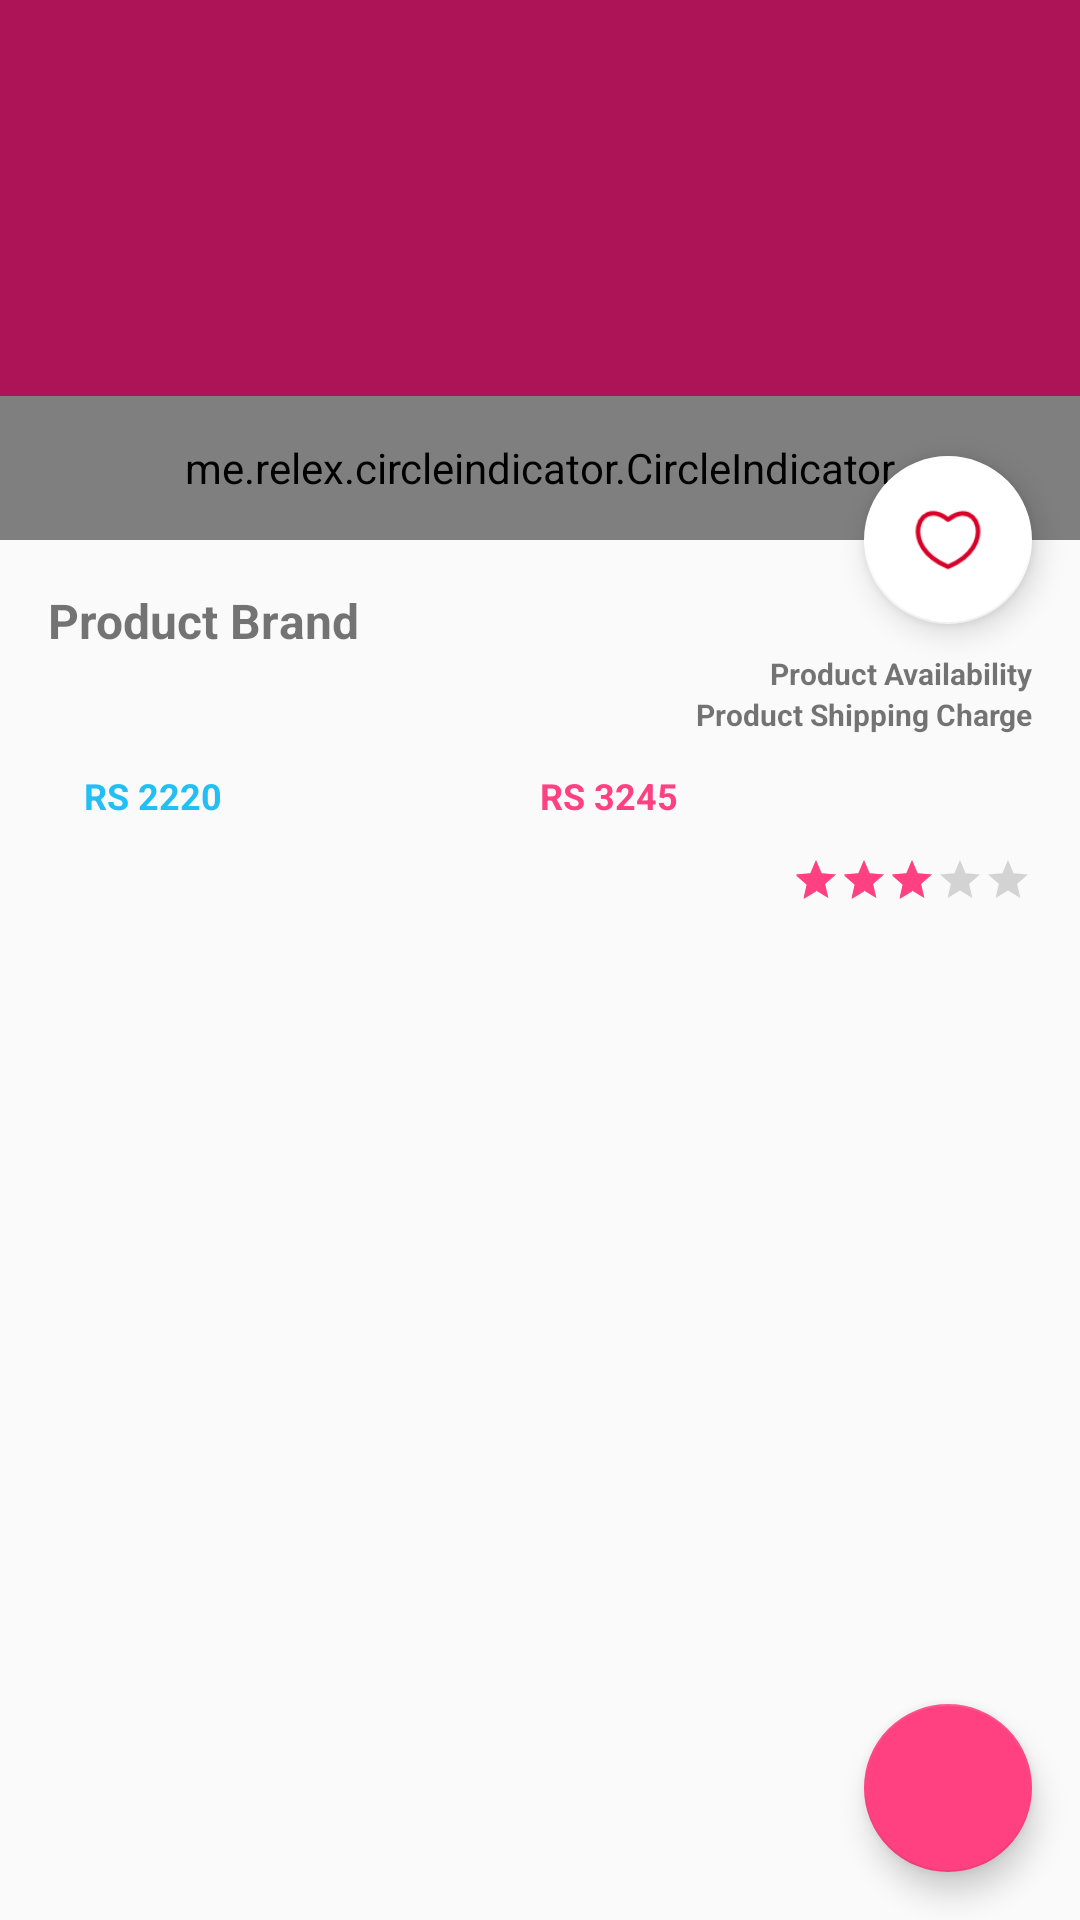

Screen size 1080x1920. Icon name, then its center in pixels as point (x, y):
wishlist: point (948, 540)
